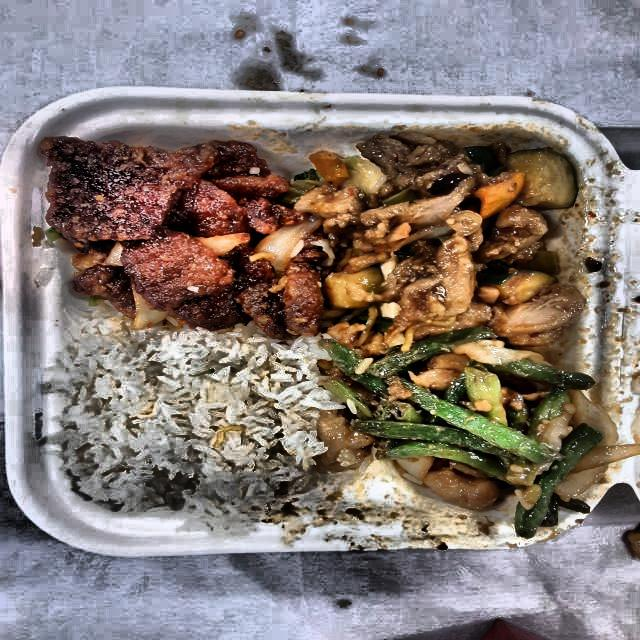Food: (296, 122, 580, 336), (40, 128, 312, 330), (55, 326, 328, 526), (344, 327, 612, 522)
